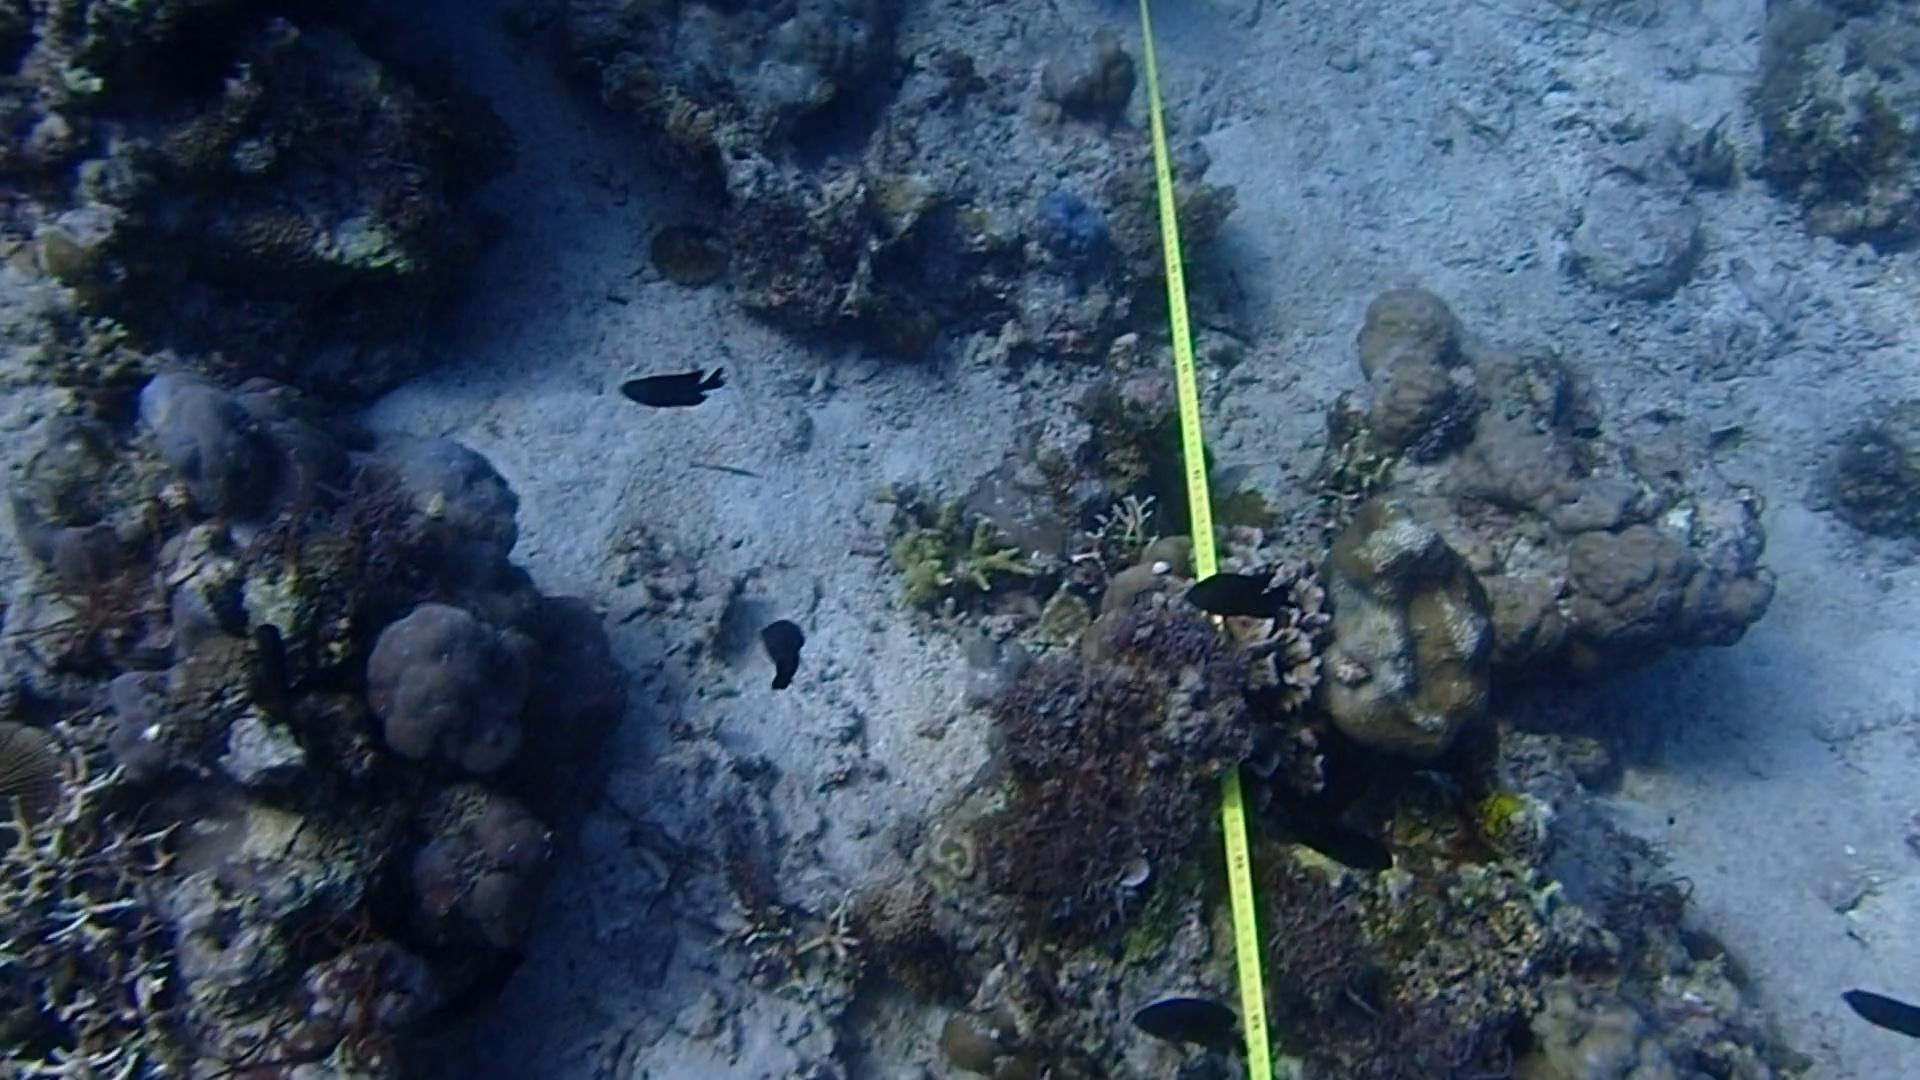Dark Fish: (1263, 789, 1387, 898), (426, 948, 539, 1062), (231, 611, 323, 740), (605, 348, 745, 433), (1133, 973, 1244, 1059), (742, 605, 824, 696), (1183, 563, 1290, 628), (1836, 973, 1920, 1052)
Light Fish: (1693, 105, 1741, 164)
